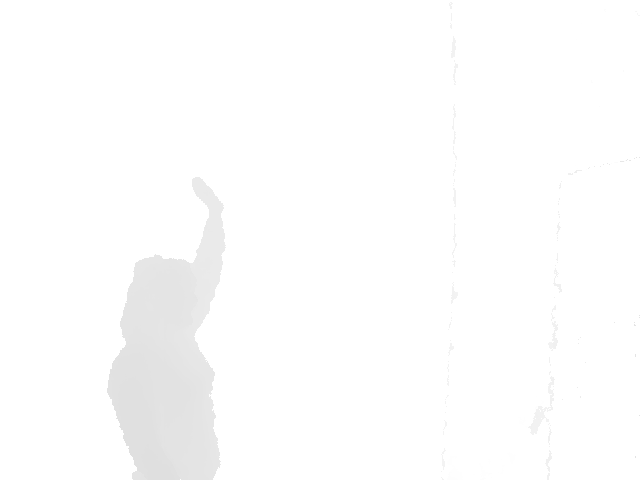hand: (190, 174, 227, 215)
head: (120, 253, 199, 345)
person: (105, 175, 227, 480)
